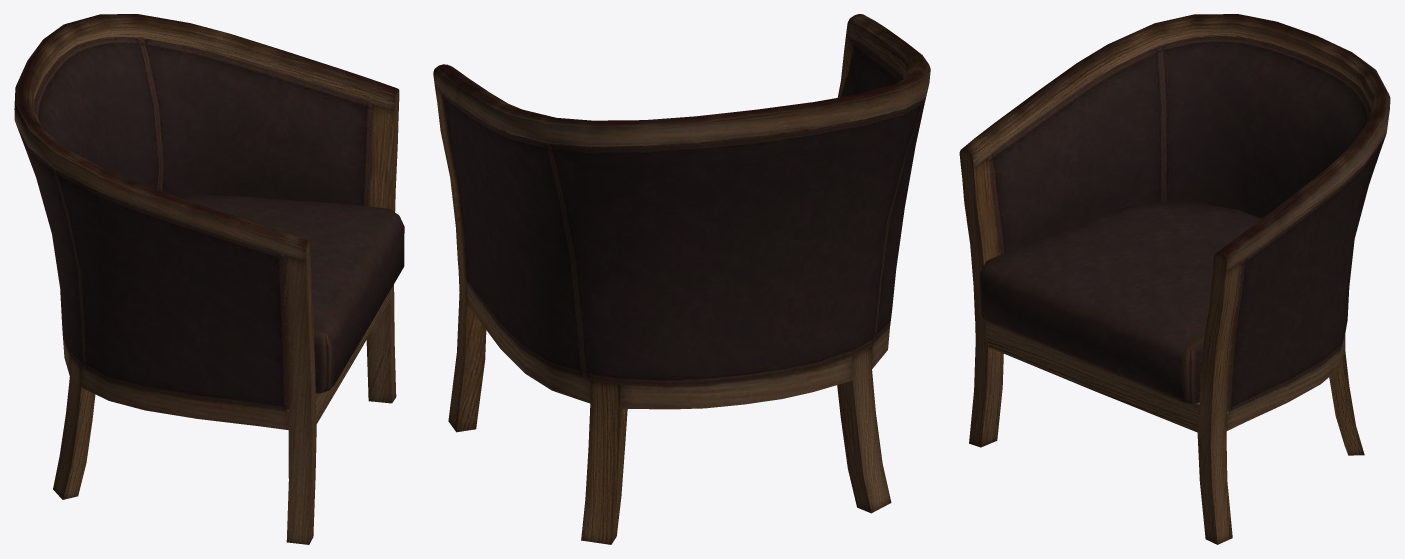
The picture shows the model from 3 angles, left to right: view 1: azimuth 30°, elevation 25°; view 2: azimuth 150°, elevation 25°; view 3: azimuth 270°, elevation 25°; orthographic projection. The views are drawn at different scales.
Parts seen in each view (by area): view 1: re_arm (3); view 2: re_arm (3); view 3: re_arm (3).
Boxes of the visible parts, x1,y1,x2,y2 form: re_arm (3): [14, 14, 404, 544]; re_arm (3): [433, 14, 930, 544]; re_arm (3): [959, 14, 1390, 544].
Size of the model in its own units: 0.7861 by 0.7323 by 0.7881.
Materials: 1 (1 with a texture image).
